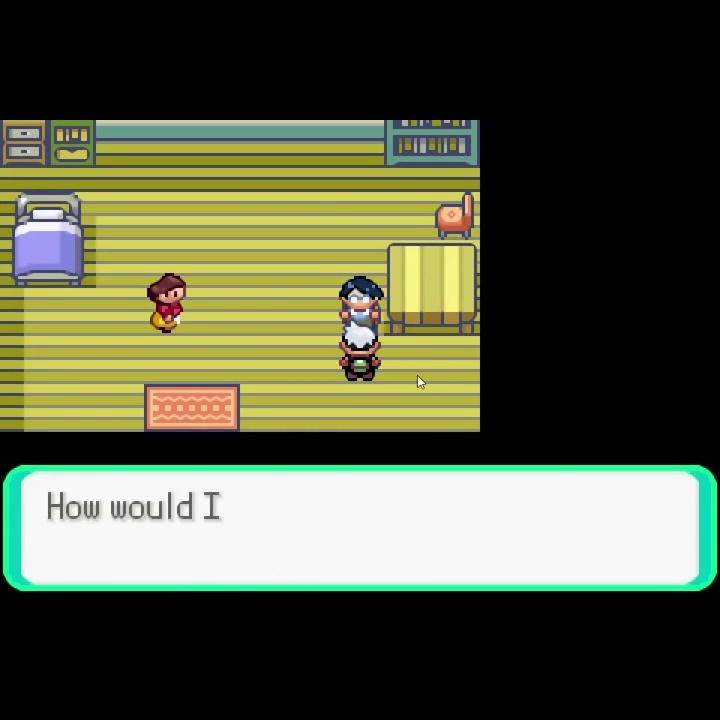exit: (141, 381, 242, 466)
npc: (336, 322, 384, 384), (146, 272, 187, 337), (337, 274, 385, 324)
